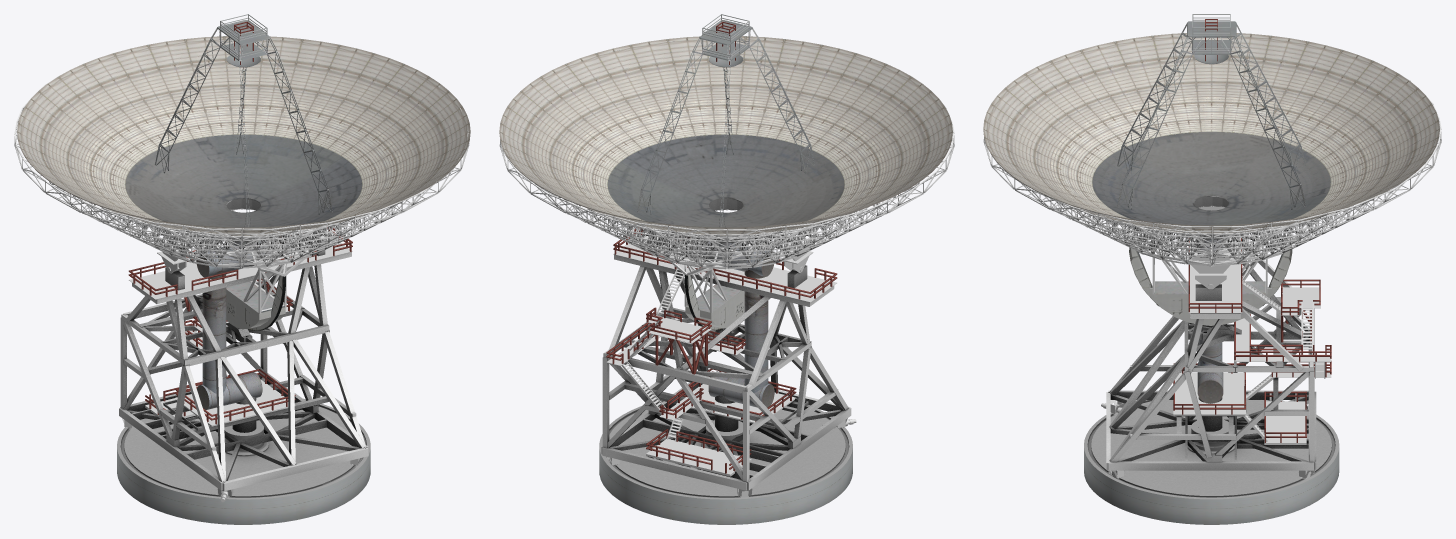
The model's file is Ground Station.glb.
3 views of the same model, side by side, from view 1: azimuth 30°, elevation 25°; view 2: azimuth 150°, elevation 25°; view 3: azimuth 270°, elevation 25° (orthographic).
Visible parts, largest first — view 1: dish, azimuth, dish_center, base, truss_dish, quad, elevation; view 2: dish, azimuth, dish_center, base, truss_dish, quad, elevation; view 3: dish, azimuth, dish_center, base, truss_dish, quad, elevation.
Boxes of the visible parts, x1,y1,x2,y2 form: dish: (17,36,470,235); azimuth: (119,227,368,502); dish_center: (125,134,362,227); base: (117,396,370,524); truss_dish: (14,83,469,268); quad: (155,14,332,227); elevation: (153,209,336,330); dish: (499,36,952,235); azimuth: (601,227,856,497); dish_center: (607,134,844,227); base: (599,400,852,524); truss_dish: (499,41,954,269); quad: (637,14,814,227); elevation: (632,228,815,330); dish: (983,33,1439,233); azimuth: (1101,235,1331,479); dish_center: (1092,132,1330,225); base: (1084,400,1339,524); truss_dish: (983,60,1441,265); quad: (1117,14,1305,209); elevation: (1113,206,1309,325).
Size of the model in its own units: 34.02 by 36.79 by 33.97.
9 materials, 6 textured.
